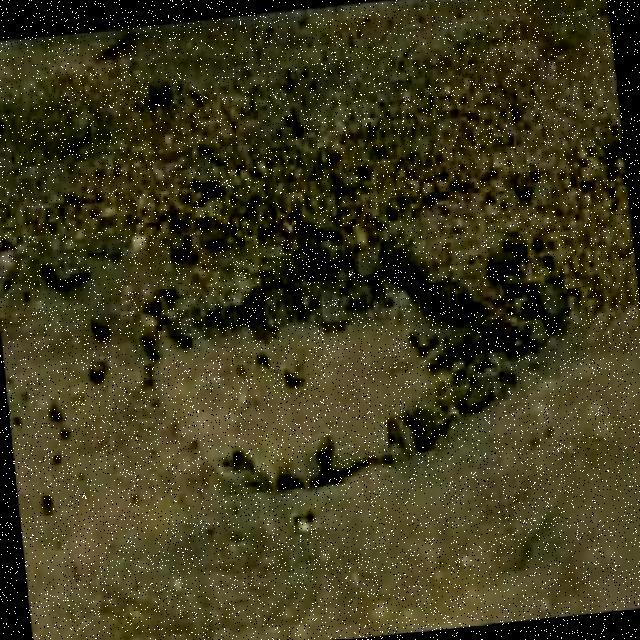Pothole: (155, 226, 542, 492)
